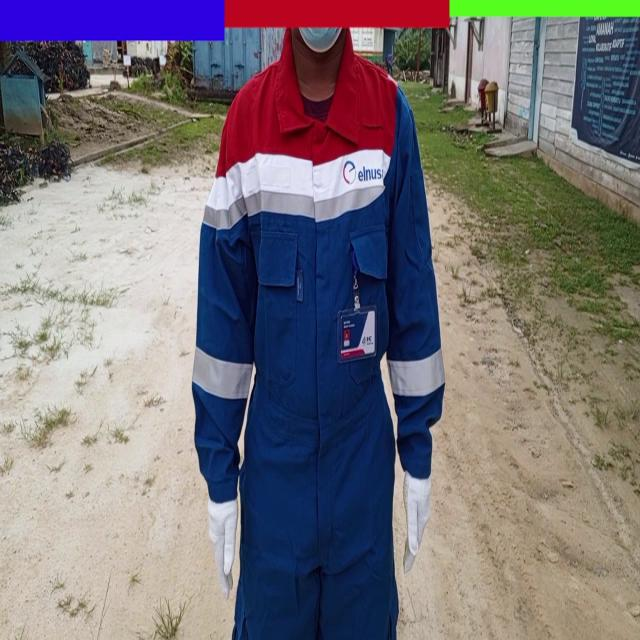Gloves: (397, 471, 433, 567), (210, 503, 238, 596)
Mask: (301, 31, 339, 49)
Overall Suit: (192, 71, 446, 640)
